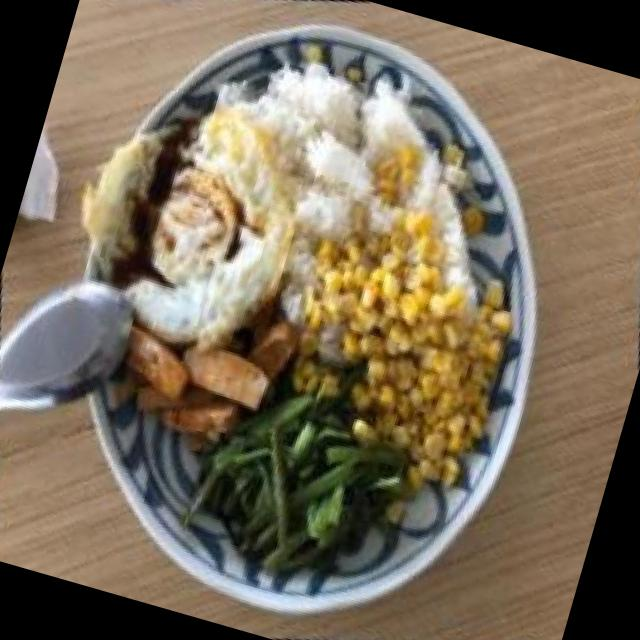fried_eggs: (22, 56, 350, 395)
rice: (246, 32, 454, 256)
water_spinach: (160, 346, 452, 627)
